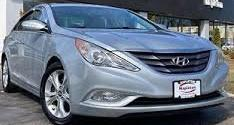Cars: (5, 5, 229, 125)
